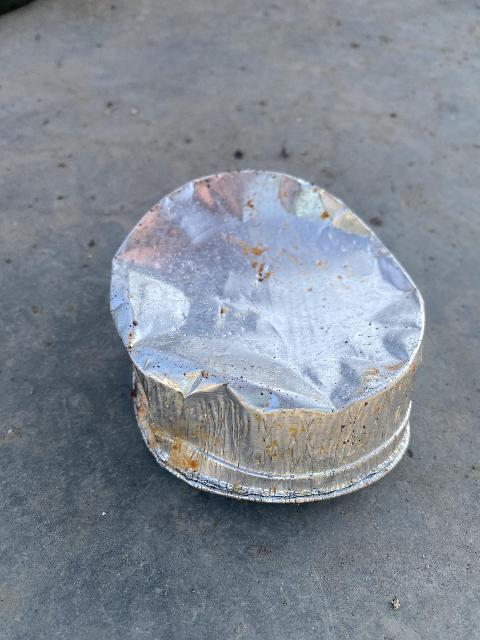Plastik: (114, 175, 425, 495)
